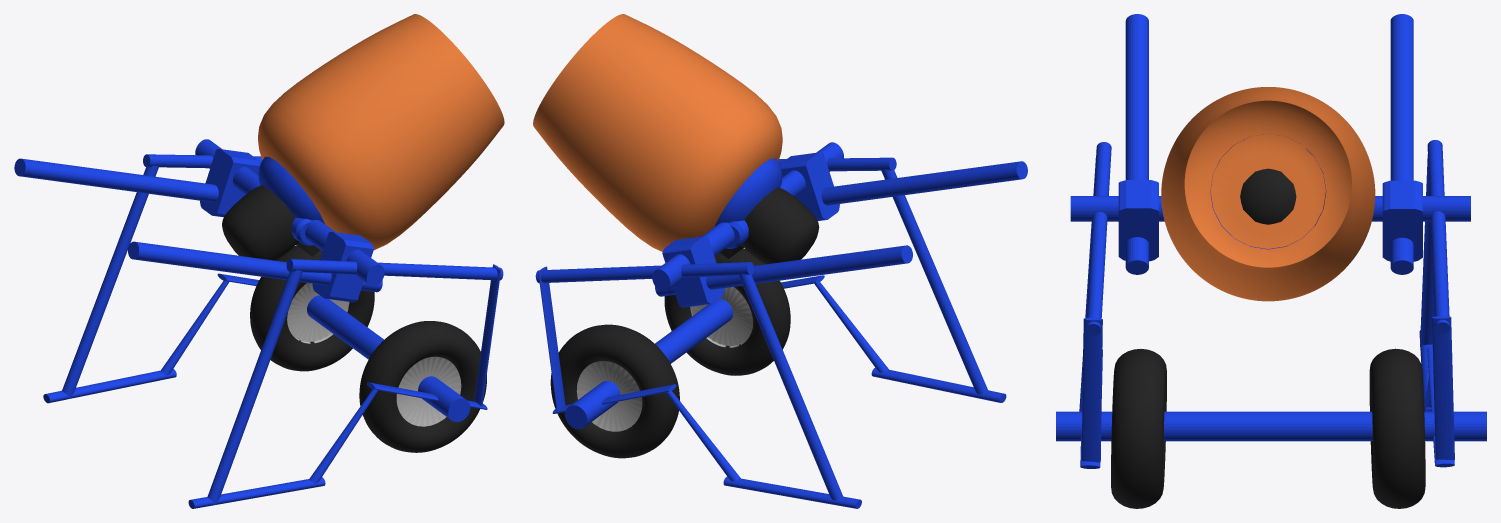
Rendered from CementMixer8.fbx.
3 renders of one model, left to right at view 1: azimuth 30°, elevation 25°; view 2: azimuth 150°, elevation 25°; view 3: azimuth 270°, elevation 25°, orthographic. The views are drawn at different scales.
Parts seen in each view (by area): view 1: Cylinder, Torus, Cylinder.006, Cylinder.001, Cylinder.010, Cube, Cylinder.013, Icosphere; view 2: Cylinder, Torus, Cylinder.006, Cylinder.010, Cylinder.001, Cube, Cylinder.013, Icosphere; view 3: Cylinder, Cylinder.006, Torus, Cylinder.013, Cylinder.010, Cylinder.001, Cube.
Boxes of the visible parts, left/top/right/bottom form: Cylinder: left=258, top=14, right=504, bottom=250; Torus: left=250, top=245, right=486, bottom=452; Cylinder.006: left=14, top=139, right=384, bottom=302; Cylinder.001: left=188, top=259, right=503, bottom=508; Cylinder.010: left=43, top=154, right=262, bottom=403; Cube: left=222, top=185, right=298, bottom=260; Cylinder.013: left=307, top=295, right=470, bottom=421; Icosphere: left=258, top=156, right=324, bottom=223; Cylinder: left=533, top=14, right=782, bottom=251; Torus: left=550, top=248, right=790, bottom=458; Cylinder.006: left=652, top=142, right=1027, bottom=307; Cylinder.010: left=535, top=262, right=861, bottom=508; Cylinder.001: left=778, top=157, right=1006, bottom=402; Cube: left=741, top=187, right=819, bottom=264; Cylinder.013: left=565, top=298, right=732, bottom=429; Icosphere: left=714, top=158, right=782, bottom=226; Cylinder: left=1161, top=87, right=1375, bottom=301; Cylinder.006: left=1070, top=14, right=1470, bottom=274; Torus: left=1111, top=348, right=1425, bottom=508; Cylinder.013: left=1056, top=411, right=1486, bottom=441; Cylinder.010: left=1419, top=140, right=1454, bottom=467; Cylinder.001: left=1079, top=142, right=1111, bottom=468; Cube: left=1240, top=168, right=1296, bottom=224.
Size of the model in its own units: 494 by 427 by 383.
